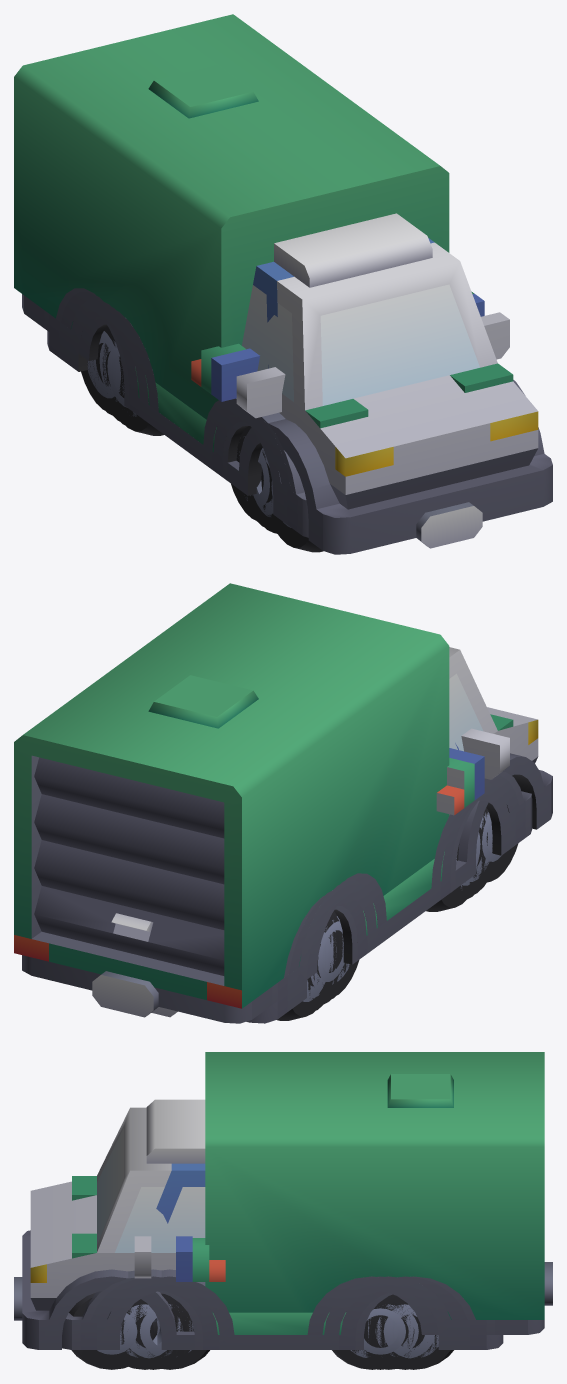
Rendered from autos.glb.
3 renders of one model, top to bottom at view 1: azimuth 30°, elevation 25°; view 2: azimuth 150°, elevation 25°; view 3: azimuth 270°, elevation 25°, orthographic. The views are drawn at different scales.
Visible parts, largest first — view 1: body (×5), wheel-back-right (×2), wheel-front-right (×3); view 2: body (×5), door, wheel-back-right (×3), wheel-front-right (×4); view 3: body (×5), wheel-back-left (×5), wheel-front-left (×4).
Part boxes in pixels (bbox=[...]): body (×5): bbox=[14, 14, 552, 554]; wheel-back-right (×2): bbox=[81, 326, 163, 435]; wheel-front-right (×3): bbox=[231, 426, 323, 552]; body (×5): bbox=[14, 583, 552, 1023]; door: bbox=[34, 757, 224, 975]; wheel-back-right (×3): bbox=[277, 915, 344, 1020]; wheel-front-right (×4): bbox=[426, 807, 518, 911]; body (×5): bbox=[14, 1052, 552, 1349]; wheel-back-left (×5): bbox=[332, 1294, 453, 1369]; wheel-front-left (×4): bbox=[69, 1292, 209, 1369].
Bounding box in the file's own units: 1.5 × 1.65 × 3.25.
